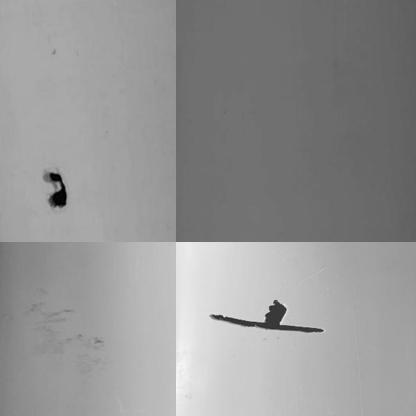fengxi: (210, 313, 331, 341)
kongdong: (37, 170, 73, 210), (259, 297, 287, 323)
